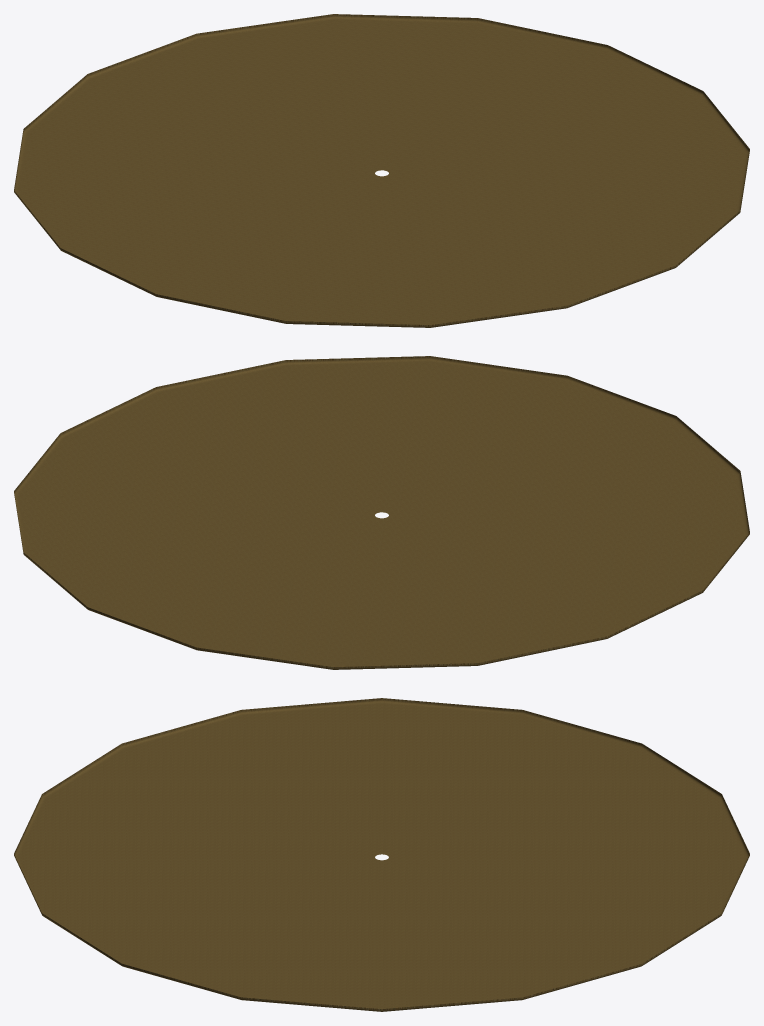
File: maptest.glb
3 renders of one model, top to bottom at view 1: azimuth 30°, elevation 25°; view 2: azimuth 150°, elevation 25°; view 3: azimuth 270°, elevation 25°, orthographic.
Visible parts, largest first — view 1: map; view 2: map; view 3: map.
Boxes of the visible parts, x1,y1,x2,y2 form: map: [14, 14, 749, 327]; map: [14, 356, 749, 669]; map: [14, 698, 749, 1011].
Size of the model in its own units: 1378 by 7.85 by 1378.
1 material, 1 textured.
